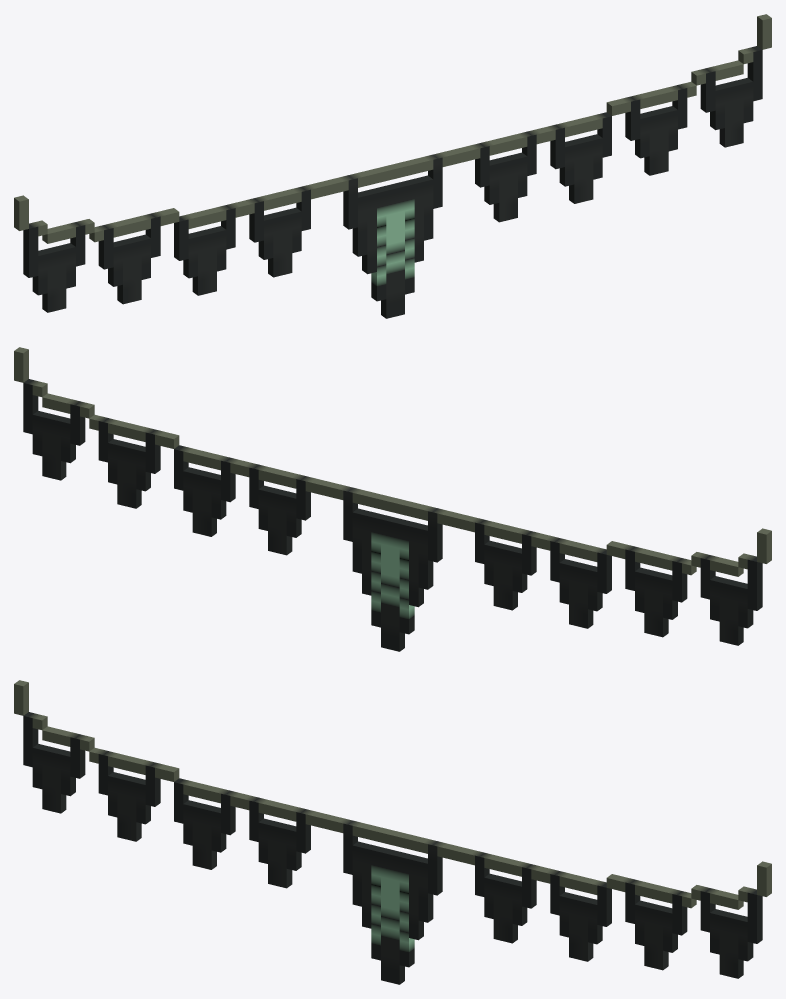
File: FlagDecor_Black_00.fbx
3 renders of one model, top to bottom at view 1: azimuth 30°, elevation 25°; view 2: azimuth 150°, elevation 25°; view 3: azimuth 330°, elevation 25°, orthographic.
Parts seen in each view (by area): view 1: FlagDecor_Black_00; view 2: FlagDecor_Black_00; view 3: FlagDecor_Black_00.
Boxes of the visible parts, bbox=[...] form: FlagDecor_Black_00: bbox=[14, 14, 771, 318]; FlagDecor_Black_00: bbox=[14, 347, 771, 651]; FlagDecor_Black_00: bbox=[14, 680, 771, 984].
Bounding box in the file's own units: 400 × 105 × 5.
